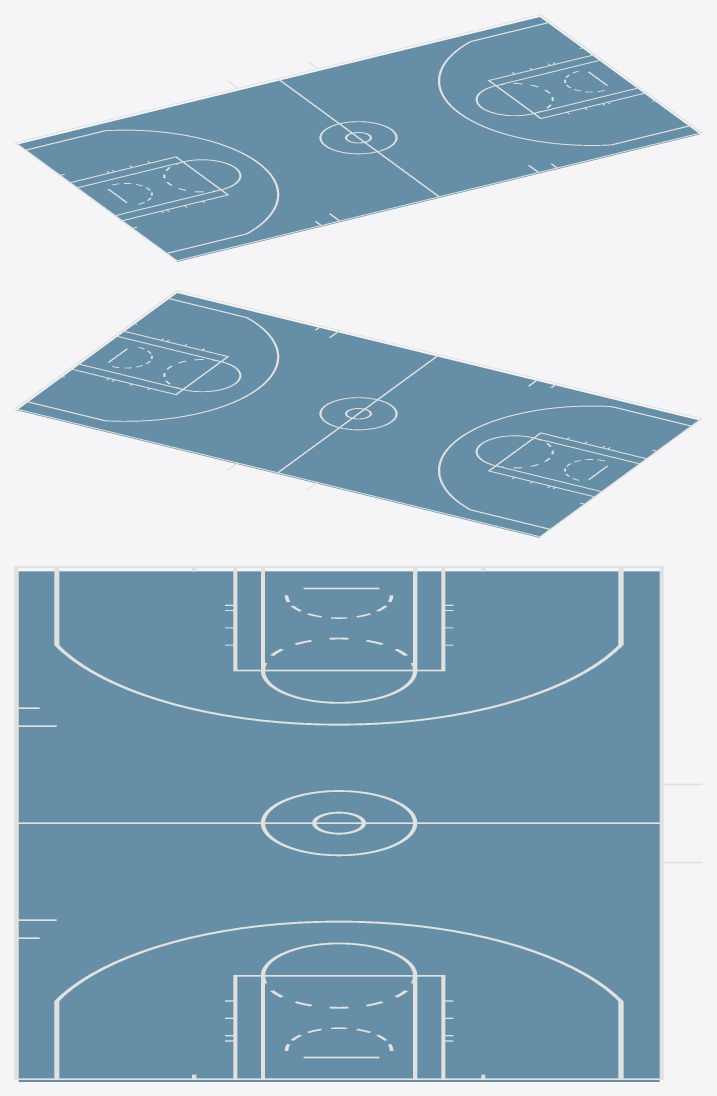
Rendered from court3.fbx.
The picture shows the model from 3 angles, top to bottom: view 1: azimuth 30°, elevation 25°; view 2: azimuth 150°, elevation 25°; view 3: azimuth 270°, elevation 25°; orthographic projection. The views are drawn at different scales.
Visible parts, largest first — view 1: Backdrop, court_line; view 2: Backdrop, court_line; view 3: Backdrop, court_line.
Part boxes in pixels (left/top/right/bottom): Backdrop: left=19, top=17, right=699, bottom=261; court_line: left=14, top=14, right=702, bottom=261; Backdrop: left=17, top=293, right=697, bottom=537; court_line: left=14, top=290, right=702, bottom=537; Backdrop: left=18, top=571, right=659, bottom=1081; court_line: left=14, top=566, right=702, bottom=1079.
Bounding box in the file's own units: 7136 × 526 × 4039.
